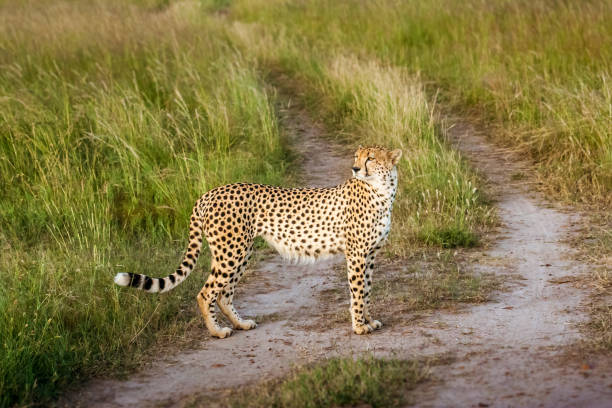cheetah: (343, 139, 406, 188)
